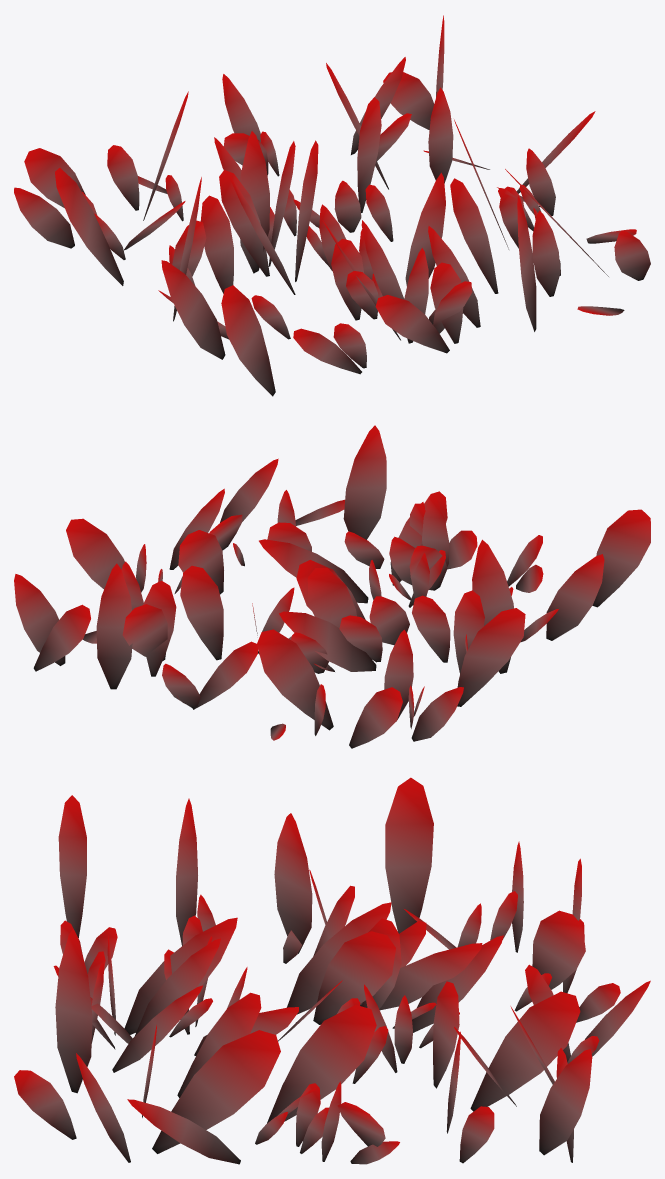
File: f_Grass_Test_2.fbx
The picture shows the model from 3 angles, top to bottom: view 1: azimuth 30°, elevation 25°; view 2: azimuth 150°, elevation 25°; view 3: azimuth 270°, elevation 25°; orthographic projection. The views are drawn at different scales.
Visible parts, largest first — view 1: GrassNode.001; view 2: GrassNode.001; view 3: GrassNode.001.
Boxes of the visible parts, left/top/right/bottom form: GrassNode.001: left=14, top=15, right=650, bottom=396; GrassNode.001: left=14, top=425, right=650, bottom=748; GrassNode.001: left=14, top=777, right=650, bottom=1164.
Size of the model in its own units: 1.33 by 0.349 by 1.28.
